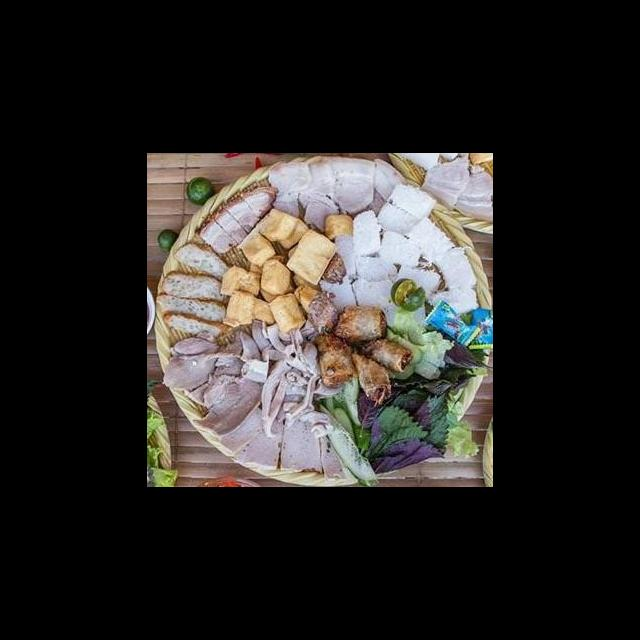bun: (312, 180, 481, 332)
bun dau: (165, 175, 488, 479)
cha com: (191, 182, 281, 257), (150, 290, 227, 327), (155, 269, 231, 306), (167, 239, 230, 283), (158, 310, 227, 341)
cha gio: (309, 327, 356, 388), (356, 330, 415, 377), (350, 348, 395, 409), (330, 302, 389, 345)
dau hu: (282, 229, 339, 290), (220, 286, 275, 331), (255, 208, 310, 248), (265, 288, 308, 334), (254, 256, 298, 299), (217, 264, 266, 298), (237, 234, 280, 265), (322, 211, 356, 244)
thit heo: (294, 154, 345, 236), (328, 154, 378, 220), (260, 158, 312, 221), (419, 154, 473, 214), (366, 156, 410, 224), (450, 160, 493, 224)
